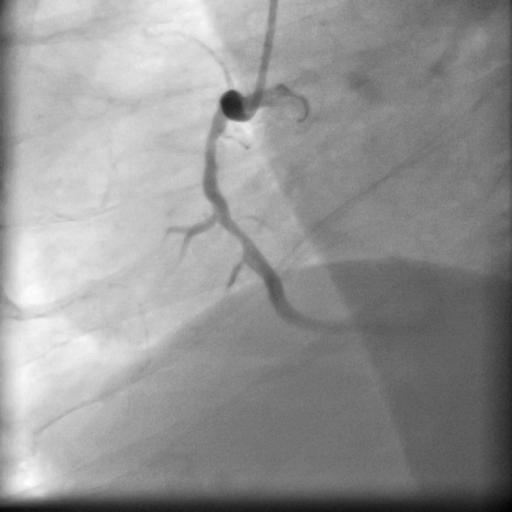Stenosis: (202, 187, 247, 247)
